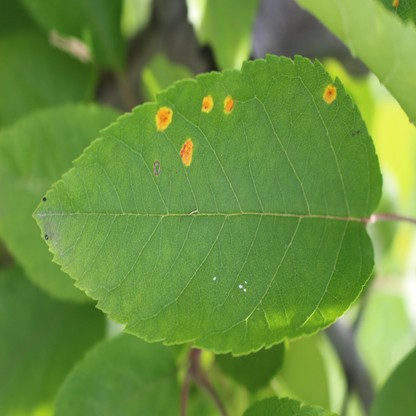powder: (36, 209, 61, 244)
rust: (156, 106, 172, 130), (180, 140, 191, 168), (323, 85, 337, 102), (224, 94, 234, 113), (202, 95, 213, 112), (393, 0, 399, 8)
